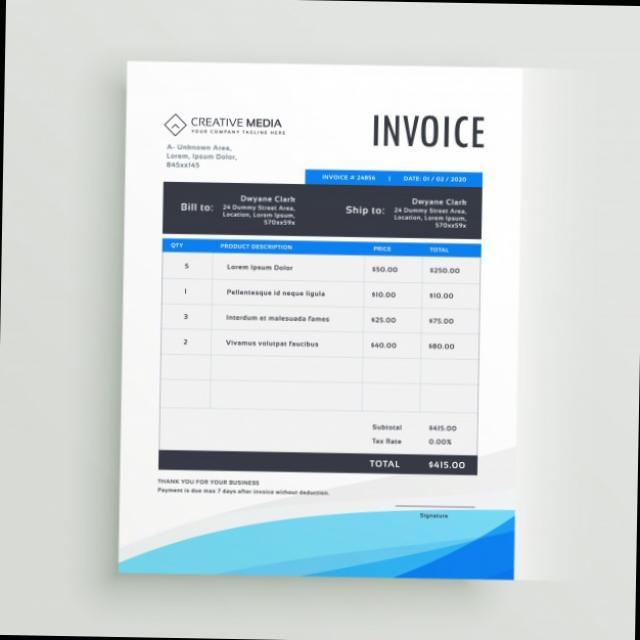customer_address: (391, 207, 470, 231), (220, 204, 298, 228)
customer_name: (404, 193, 468, 207), (232, 196, 296, 206)
invoice_date: (422, 172, 468, 184)
invoice_number: (348, 174, 378, 184)
invoice_subtotal: (423, 419, 470, 434)
invoice_total: (422, 454, 474, 475)
item_description: (217, 257, 336, 358)
item_quantity: (172, 257, 200, 355)
item_total_price: (424, 262, 463, 354)
item_unit_price: (360, 260, 407, 354)
supplier_address: (163, 138, 240, 170)
supplier_name: (188, 111, 291, 138)
tax_rate: (424, 435, 464, 451)
